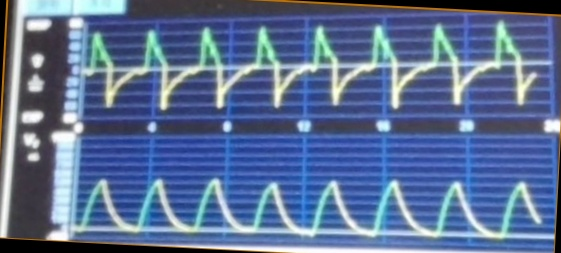Accumulation Flow: (87, 17, 534, 112)
Volume: (82, 143, 539, 240)
